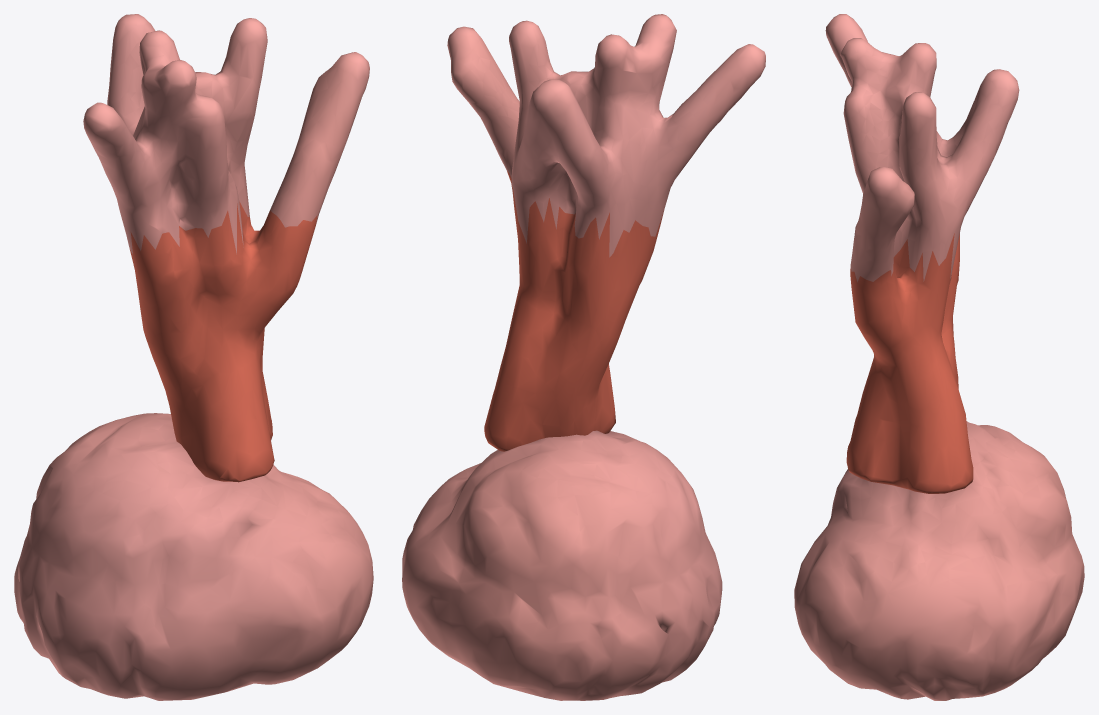
File: shore_coral_pillar.glb
3 renders of one model, left to right at view 1: azimuth 30°, elevation 25°; view 2: azimuth 150°, elevation 25°; view 3: azimuth 270°, elevation 25°, orthographic. The views are drawn at different scales.
Visible parts, largest first — view 1: shore_coral_pillar; view 2: shore_coral_pillar; view 3: shore_coral_pillar.
Part boxes in pixels (x1,y1,x2,y2): shore_coral_pillar: [14, 14, 373, 700]; shore_coral_pillar: [402, 14, 765, 700]; shore_coral_pillar: [794, 14, 1084, 700].
Size of the model in its own units: 3.12 by 6.11 by 2.75.
